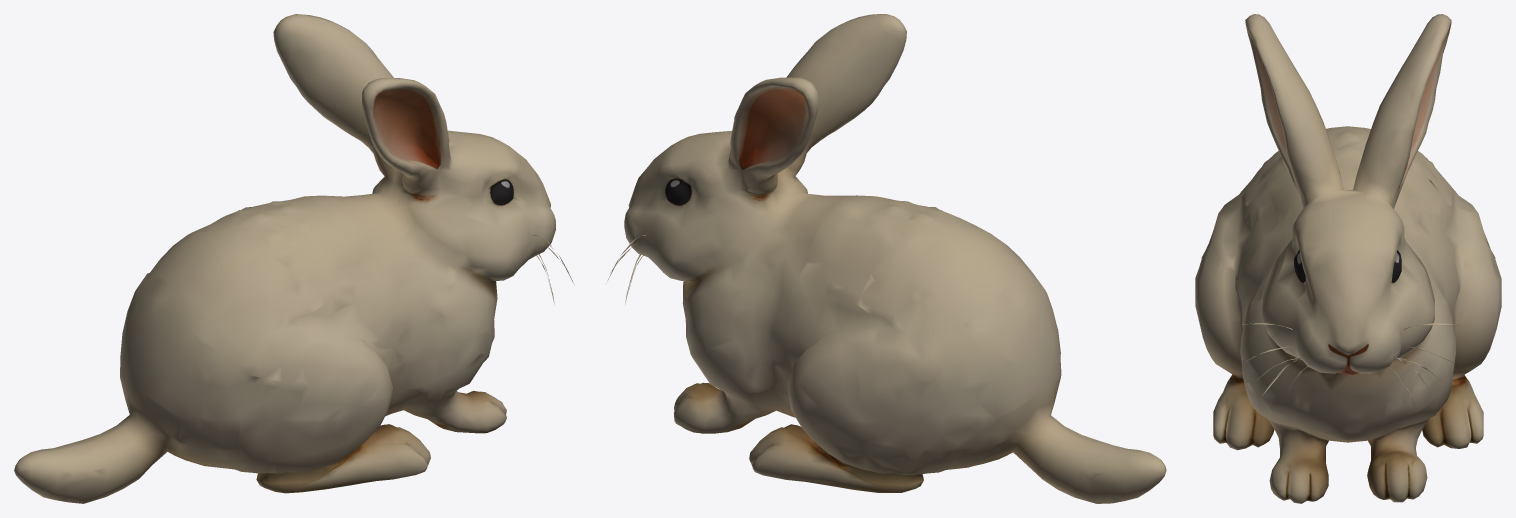
3 views of the same model, side by side, from view 1: azimuth 30°, elevation 25°; view 2: azimuth 150°, elevation 25°; view 3: azimuth 270°, elevation 25° (orthographic). The views are drawn at different scales.
Parts seen in each view (by area): view 1: tripo_node_d3316281-a5b8-4e4f-bfa8-ae66af5afa49; view 2: tripo_node_d3316281-a5b8-4e4f-bfa8-ae66af5afa49; view 3: tripo_node_d3316281-a5b8-4e4f-bfa8-ae66af5afa49.
Boxes of the visible parts, x1,y1,x2,y2 form: tripo_node_d3316281-a5b8-4e4f-bfa8-ae66af5afa49: (14, 14, 574, 503); tripo_node_d3316281-a5b8-4e4f-bfa8-ae66af5afa49: (607, 14, 1166, 503); tripo_node_d3316281-a5b8-4e4f-bfa8-ae66af5afa49: (1195, 14, 1501, 503).
Bounding box in the file's own units: 0.998 × 0.6973 × 0.4668.
1 material, 1 textured.
